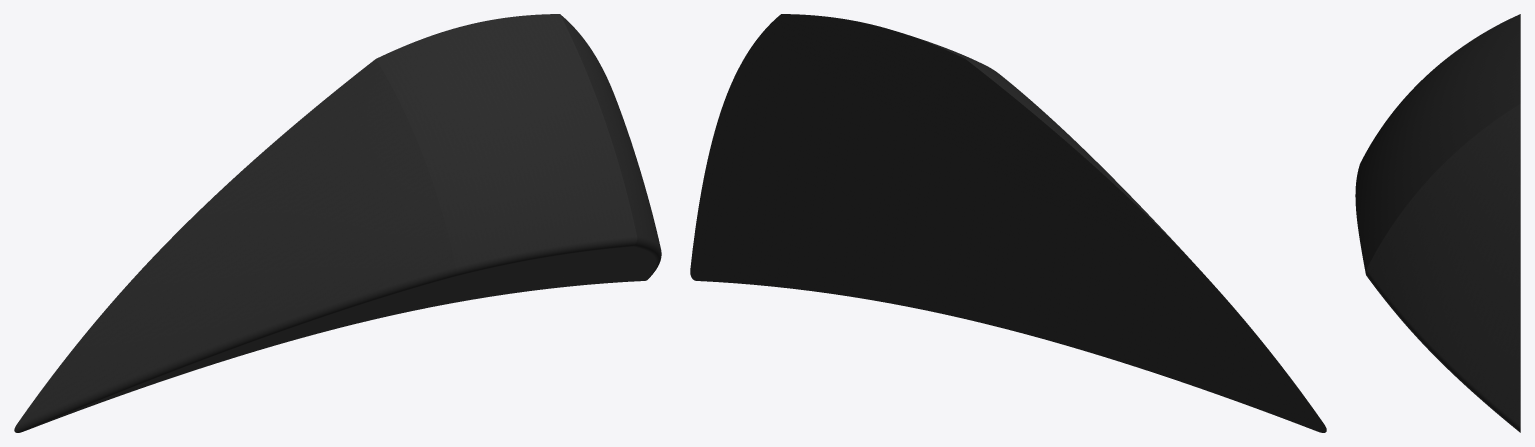
Rendered from hold01.glb.
The picture shows the model from 3 angles, left to right: view 1: azimuth 30°, elevation 25°; view 2: azimuth 150°, elevation 25°; view 3: azimuth 270°, elevation 25°; orthographic projection.
Visible parts, largest first — view 1: Object_2; view 2: Object_2; view 3: Object_2.
Part boxes in pixels (x1,y1,x2,y2): Object_2: [14, 14, 661, 432]; Object_2: [690, 14, 1326, 432]; Object_2: [1355, 14, 1520, 432].
Size of the model in its own units: 691 by 311 by 156.
Materials: 1 (1 with a texture image).
